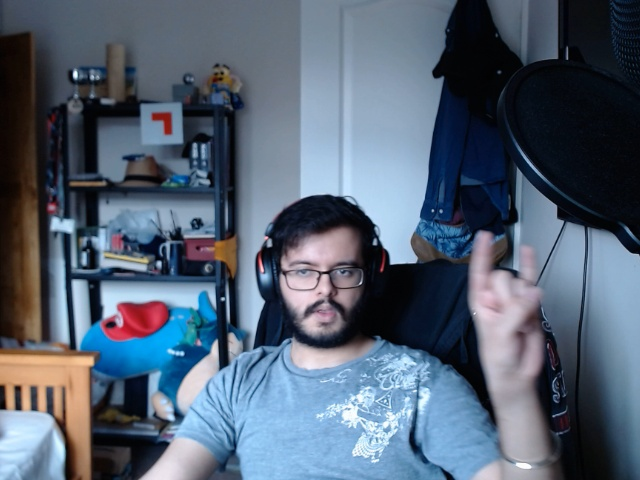Rock on: (462, 221, 552, 391)
